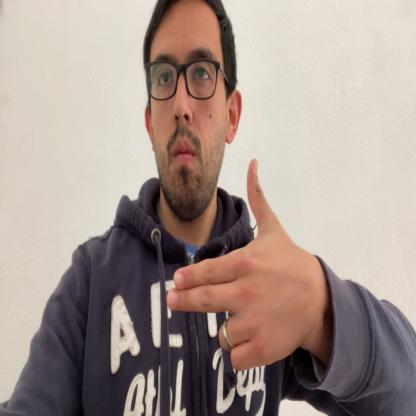H: (166, 156, 310, 373)
